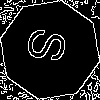S: (25, 25, 77, 68)
